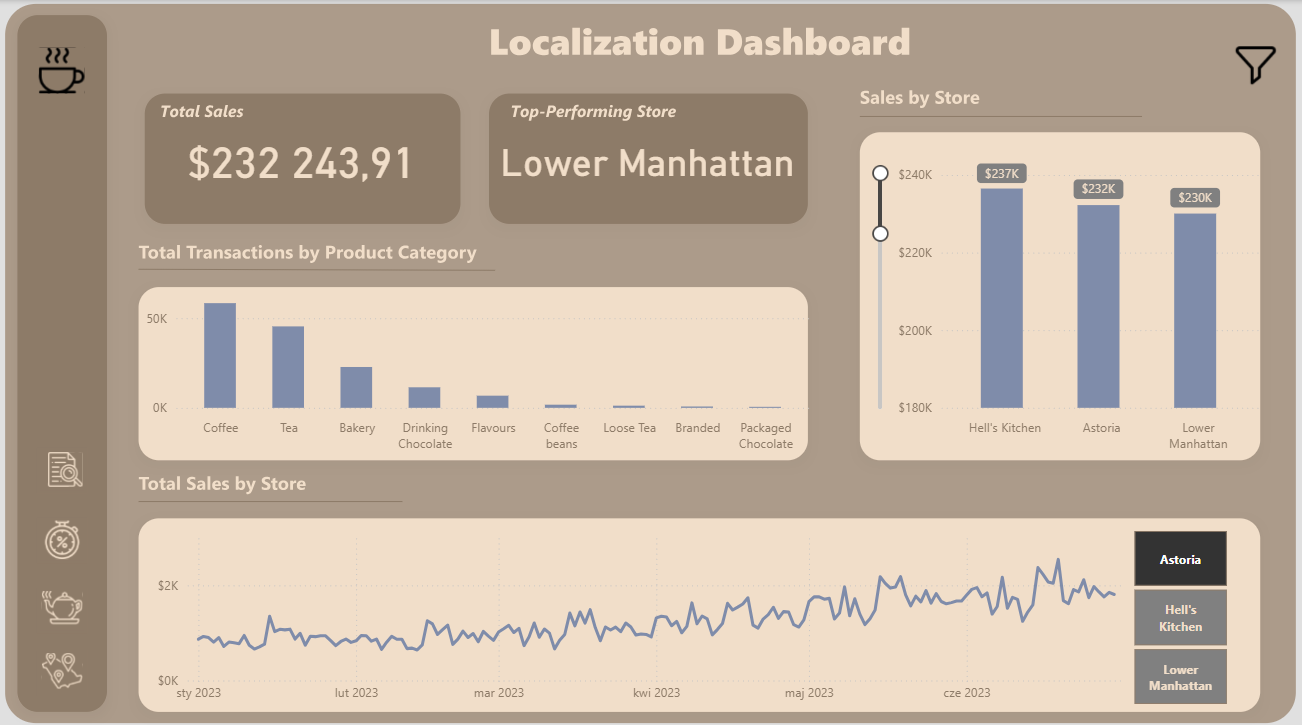

Layout of this report page (visuals, bound fields, positions):
{"tool":"powerbi","page":{"name":"Localization Dashboard","canvas":[1280,720],"ordinal":4},"visuals":[{"type":"group","id":"g1","title":"KPIs","box":[139.9,93.3,652.8,126.4],"z":0},{"type":"card","title":"Total Sales","fields":{"Values":["Sum(Project.Total_Bill)"]},"box":[139.9,93.3,314.1,123.9],"z":0,"group":"g1"},{"type":"clusteredColumnChart","title":"Total Transactions by roduct Category","fields":{"Category":["Project.product_category"],"Y":["CountNonNull(Project.ID)"]},"box":[139.9,281,661.4,170.6],"z":0,"group":"g3"},{"type":"actionButton","title":"Button L DB ","box":[36.9,637.7,50,45.4],"z":0,"group":"g2"},{"type":"actionButton","title":"Button Filters","box":[1206.2,35,63.8,55],"z":1000,"group":"g4"},{"type":"card","title":"Top Performing Store","fields":{"Values":["Project.Top Performing Store"]},"box":[481,93.3,311.7,126.4],"z":1000,"group":"g1"},{"type":"clusteredColumnChart","title":"Sales by Store","fields":{"Y":["Sum(Project.Total_Bill)"],"Category":["Project.store_location"]},"box":[854,149.7,390.2,301.8],"z":1000,"group":"g3"},{"type":"group","id":"g2","title":"Ribbon Buttons","box":[36.9,439.2,50,243.8],"z":1000},{"type":"actionButton","title":"Button P DB","box":[36.9,576.9,50,45.4],"z":1000,"group":"g2"},{"type":"group","id":"g3","title":"Visualizations","box":[139.9,149.7,1104.3,548.5],"z":2000},{"type":"actionButton","title":"Button ST DB","box":[36.9,507.7,50,45.4],"z":2000,"group":"g2"},{"type":"lineChart","title":"Total Sales by Store","fields":{"Category":["Project.transaction_date"],"Y":["Sum(Project.Total_Bill)"],"Series":["Project.store_location"]},"box":[150.9,514.1,973,184.1],"z":2000,"group":"g3"},{"type":"group","id":"g4","title":"General Filters","box":[0,0,1279.8,720.2],"z":3000},{"type":"actionButton","title":"Button OD DB","box":[36.9,439.2,50,45.4],"z":3000,"group":"g2"},{"type":"slicer","title":"Slicer Store Location","fields":{"Values":["Project.store_location"]},"box":[1088.4,514.1,141.1,184.1],"z":3000,"group":"g3"}]}

Visuals, with their boxes in screenshot pixels (x1, y1, x2, y2), scaled from the page's 1280x720 canvas onto the 1302x725 screenshot:
"KPIs" group: locate(142, 94, 806, 221)
"Total Sales" card: locate(142, 94, 462, 219)
"Total Transactions by roduct Category" clusteredColumnChart: locate(142, 283, 815, 455)
"Button L DB " actionButton: locate(38, 642, 88, 688)
"Button Filters" actionButton: locate(1227, 35, 1292, 91)
"Top Performing Store" card: locate(489, 94, 806, 221)
"Sales by Store" clusteredColumnChart: locate(869, 151, 1266, 455)
"Ribbon Buttons" group: locate(38, 442, 88, 688)
"Button P DB" actionButton: locate(38, 581, 88, 627)
"Visualizations" group: locate(142, 151, 1266, 703)
"Button ST DB" actionButton: locate(38, 511, 88, 557)
"Total Sales by Store" lineChart: locate(153, 518, 1143, 703)
"General Filters" group: locate(0, 0, 1301, 724)
"Button OD DB" actionButton: locate(38, 442, 88, 488)
"Slicer Store Location" slicer: locate(1107, 518, 1251, 703)
